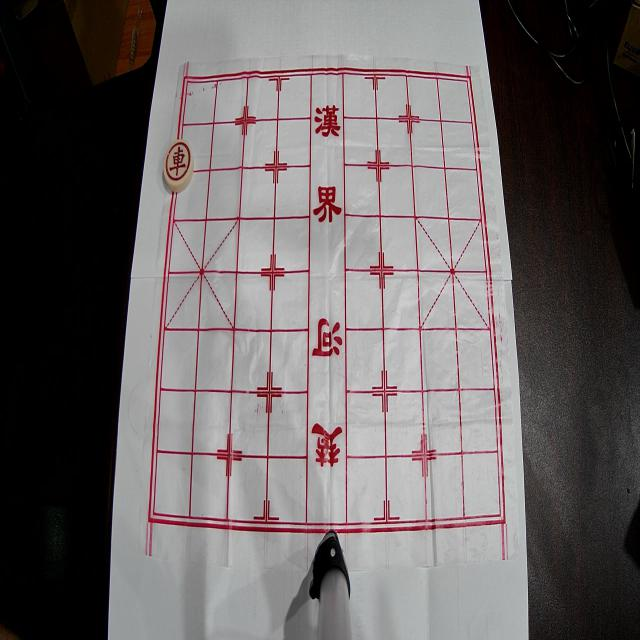red-chariot: (164, 139, 194, 193)
